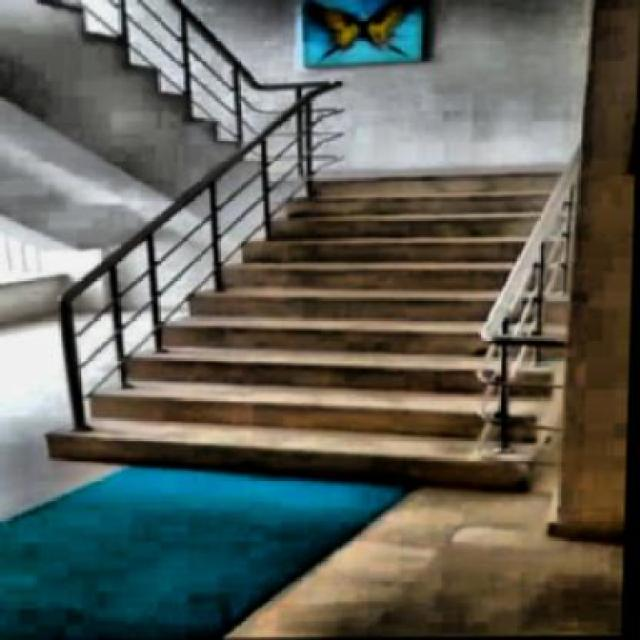stair: (26, 143, 574, 497)
